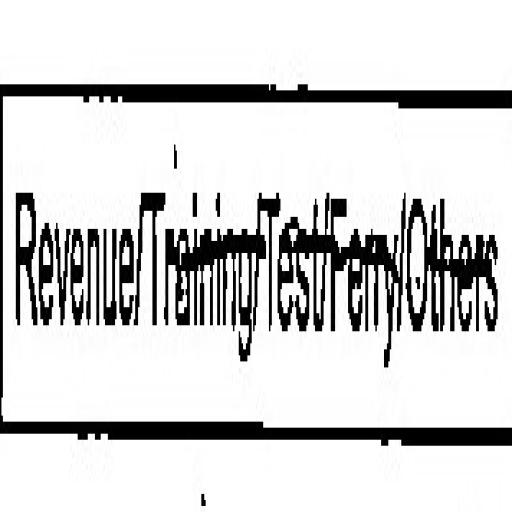check: (1, 18, 143, 479)
